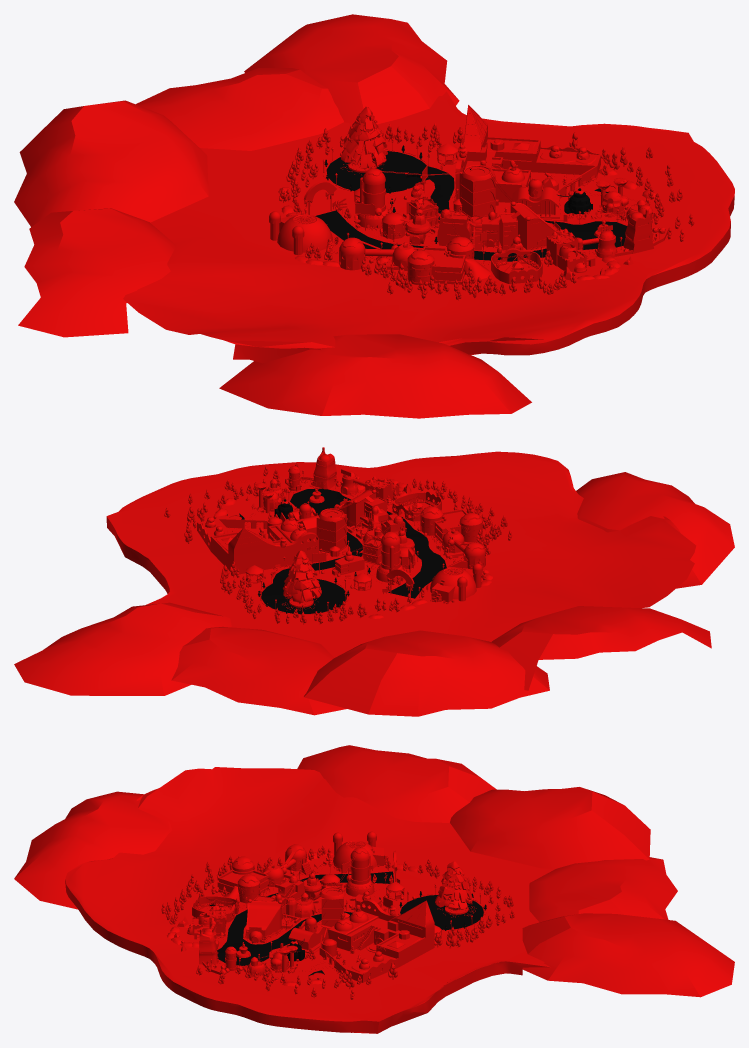
Rendered from Individual_PenguPlaza_EASTER_01.glb.
3 views of the same model, one above another, from view 1: azimuth 30°, elevation 25°; view 2: azimuth 150°, elevation 25°; view 3: azimuth 270°, elevation 25° (orthographic). The views are drawn at different scales.
Visible parts, largest first — view 1: pasted__pasted__Berg, pasted__SnowPatch17, pasted__SnowPatch23, pasted__SnowPatch22, pasted__SnowPatch25, pasted__SnowPatch24, pasted__pasted__polySurface204, polySurface260, polySurface194, pCylinder31, Tree_54, polySurface246 (+8 smaller); view 2: pasted__pasted__Berg, pasted__SnowPatch23, pasted__SnowPatch25, pasted__SnowPatch24, pasted__SnowPatch22, pasted__SnowPatch17, pasted__pasted__polySurface204, polySurface194, polySurface260, Tree_54, pCylinder31, pCube113 (+8 smaller); view 3: pasted__pasted__Berg, pasted__SnowPatch25, pasted__SnowPatch23, pasted__SnowPatch22, pasted__SnowPatch17, pasted__SnowPatch24, pasted__pasted__polySurface204, pasted__typeMesh2, polySurface260, Tree_54, polySurface194, pSphere35 (+8 smaller).
Part boxes in pixels (left/top/right/bottom): pasted__pasted__Berg: left=123, top=91, right=734, bottom=363; pasted__SnowPatch17: left=219, top=334, right=531, bottom=418; pasted__SnowPatch23: left=14, top=100, right=208, bottom=226; pasted__SnowPatch22: left=18, top=208, right=176, bottom=337; pasted__SnowPatch25: left=244, top=14, right=459, bottom=124; pasted__SnowPatch24: left=136, top=68, right=343, bottom=150; pasted__pasted__polySurface204: left=455, top=105, right=600, bottom=202; polySurface260: left=407, top=242, right=474, bottom=285; polySurface194: left=269, top=211, right=332, bottom=254; pCylinder31: left=453, top=165, right=495, bottom=217; Tree_54: left=341, top=106, right=387, bottom=168; polySurface246: left=506, top=178, right=564, bottom=220; pasted__pasted__Berg: left=106, top=451, right=696, bottom=657; pasted__SnowPatch23: left=304, top=630, right=549, bottom=716; pasted__SnowPatch25: left=14, top=602, right=231, bottom=695; pasted__SnowPatch24: left=171, top=626, right=346, bottom=715; pasted__SnowPatch22: left=491, top=606, right=711, bottom=690; pasted__SnowPatch17: left=576, top=472, right=734, bottom=588; pasted__pasted__polySurface204: left=197, top=512, right=318, bottom=574; polySurface194: left=430, top=563, right=482, bottom=602; polySurface260: left=420, top=509, right=482, bottom=542; Tree_54: left=283, top=550, right=321, bottom=602; pCylinder31: left=316, top=508, right=346, bottom=556; pCube113: left=442, top=528, right=485, bottom=569; pasted__pasted__Berg: left=65, top=767, right=554, bottom=1033; pasted__SnowPatch25: left=522, top=913, right=734, bottom=997; pasted__SnowPatch23: left=450, top=787, right=650, bottom=868; pasted__SnowPatch22: left=297, top=745, right=496, bottom=822; pasted__SnowPatch17: left=14, top=791, right=172, bottom=909; pasted__SnowPatch24: left=529, top=857, right=677, bottom=922; pasted__pasted__polySurface204: left=319, top=899, right=434, bottom=982; pasted__typeMesh2: left=246, top=895, right=325, bottom=942; polySurface260: left=217, top=861, right=268, bottom=903; Tree_54: left=435, top=861, right=472, bottom=910; polySurface194: left=333, top=831, right=383, bottom=871; pSphere35: left=345, top=850, right=374, bottom=896.
Bounding box in the file's own units: 190 × 28.36 × 207.
